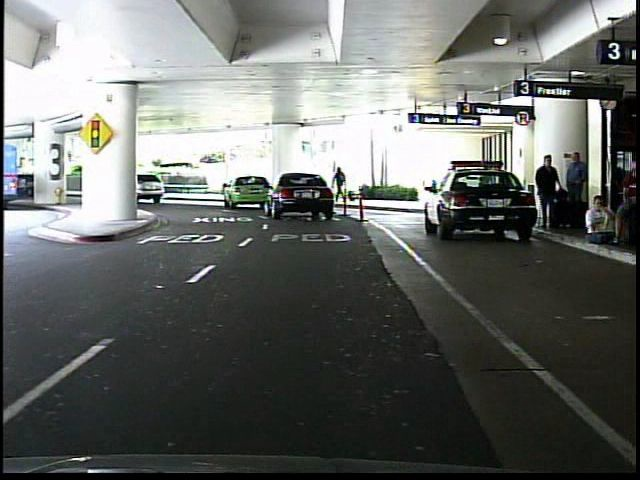person: (560, 147, 591, 232), (534, 154, 563, 232), (334, 161, 350, 204)
